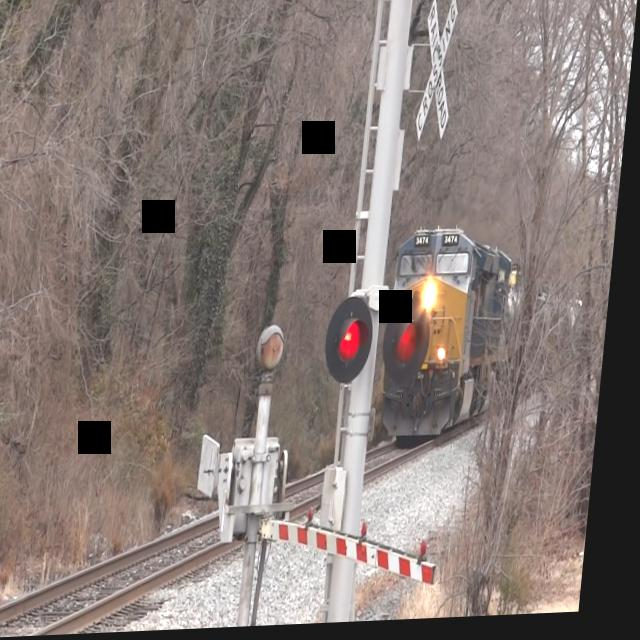locomotive: (383, 227, 528, 461)
